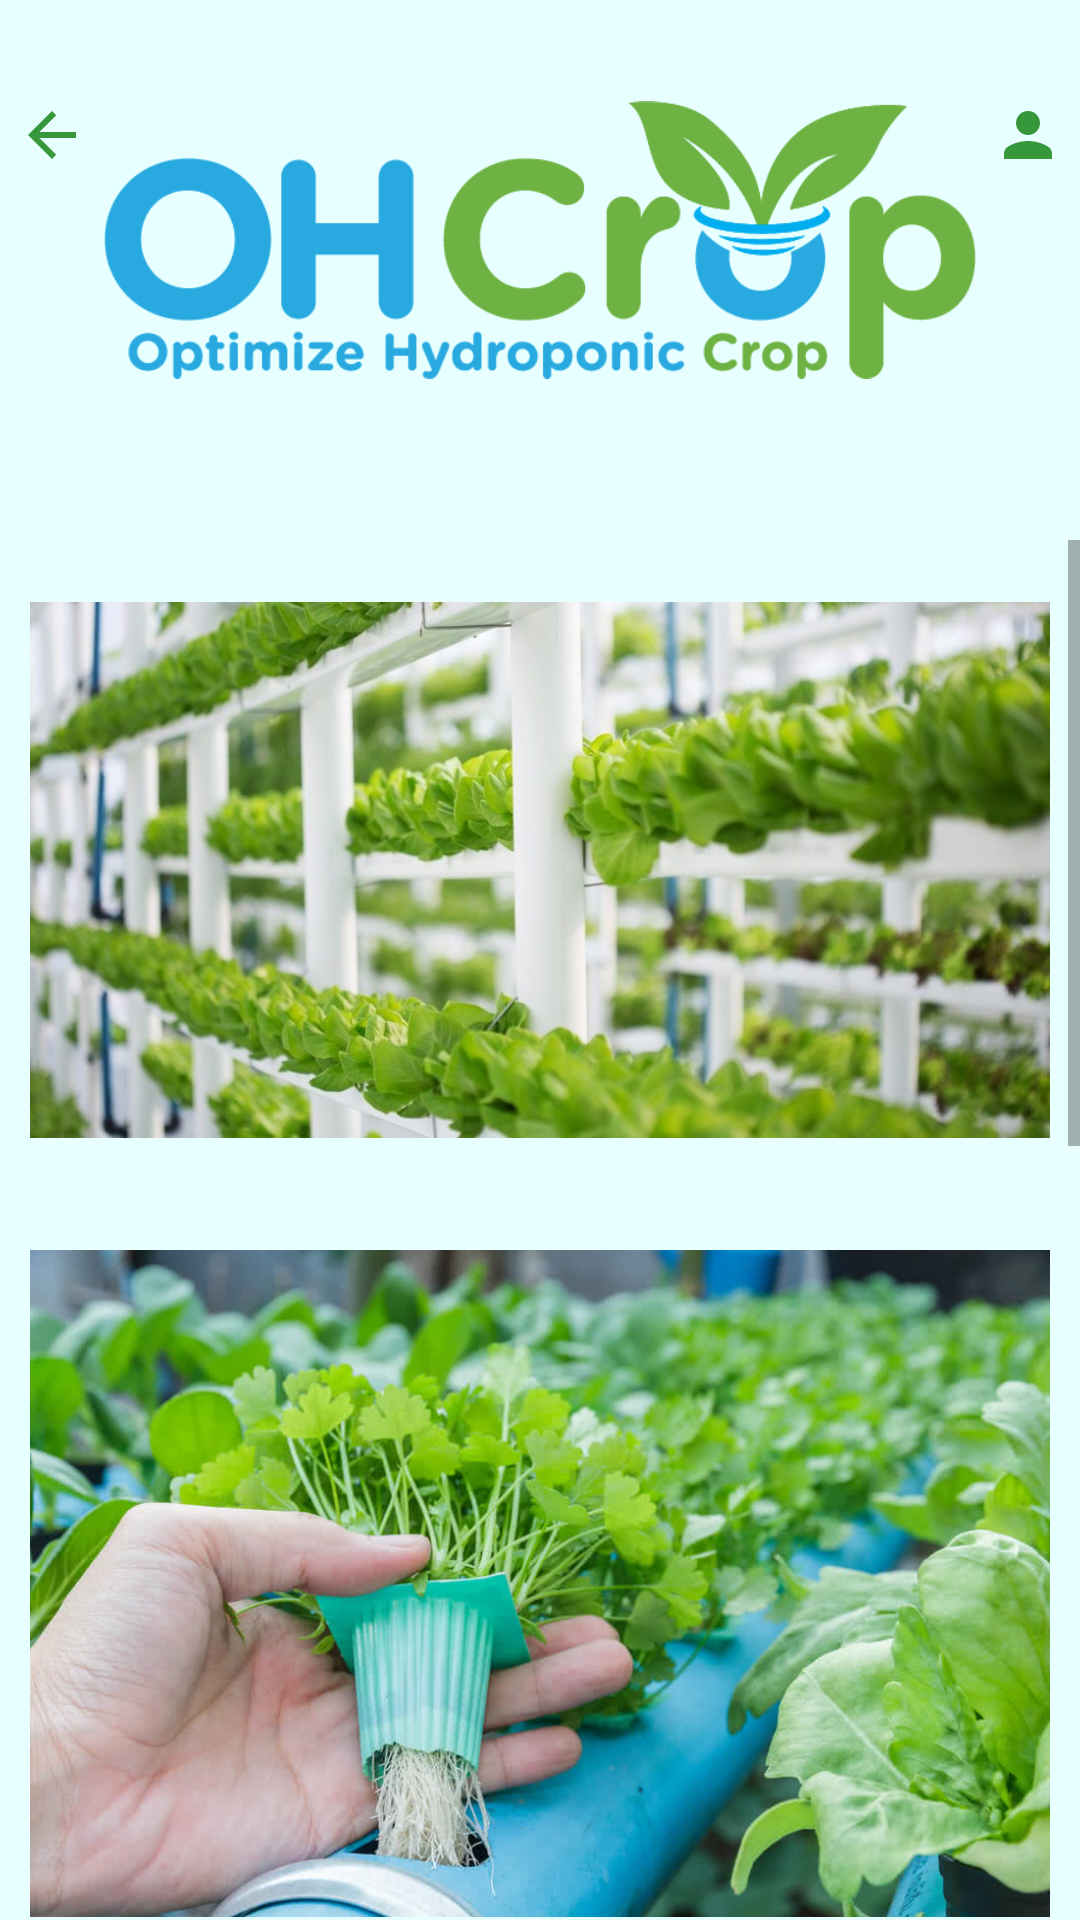

Where to tap for icons on this 1080*1920 app screen, as (x=x, y=y):
arrow back: (x=52, y=135)
person: (x=1028, y=135)
